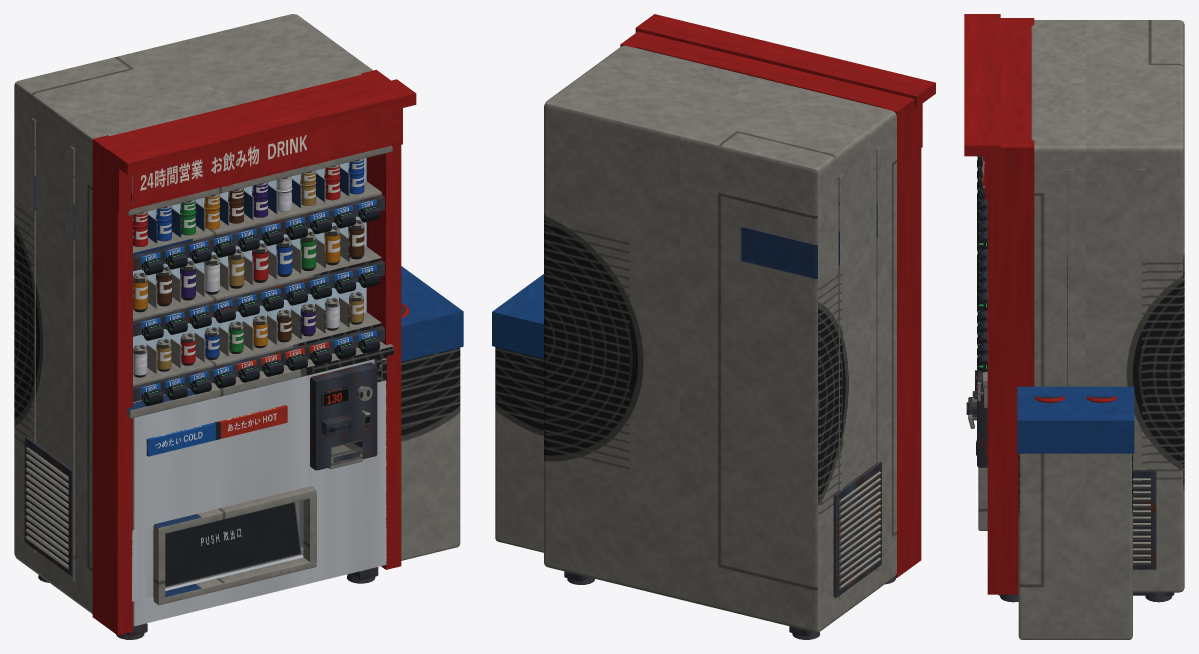
The model's file is RetroVendingMachine.fbx.
3 renders of one model, left to right at view 1: azimuth 30°, elevation 25°; view 2: azimuth 150°, elevation 25°; view 3: azimuth 270°, elevation 25°, orthographic. The views are drawn at different scales.
Visible parts, largest first — view 1: RetroVendingMachine; view 2: RetroVendingMachine; view 3: RetroVendingMachine.
Boxes of the visible parts, x1=… form: RetroVendingMachine: x1=14, y1=14, x2=463, y2=639; RetroVendingMachine: x1=492, y1=14, x2=935, y2=639; RetroVendingMachine: x1=964, y1=14, x2=1184, y2=639.
Bounding box in the file's own units: 1.53 × 1.97 × 0.85.
